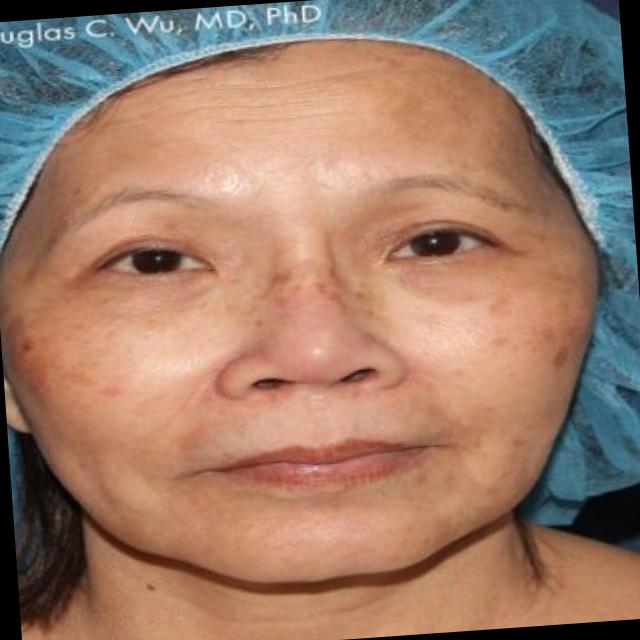melasma: (0, 308, 263, 439), (406, 242, 617, 386), (255, 236, 365, 312)
